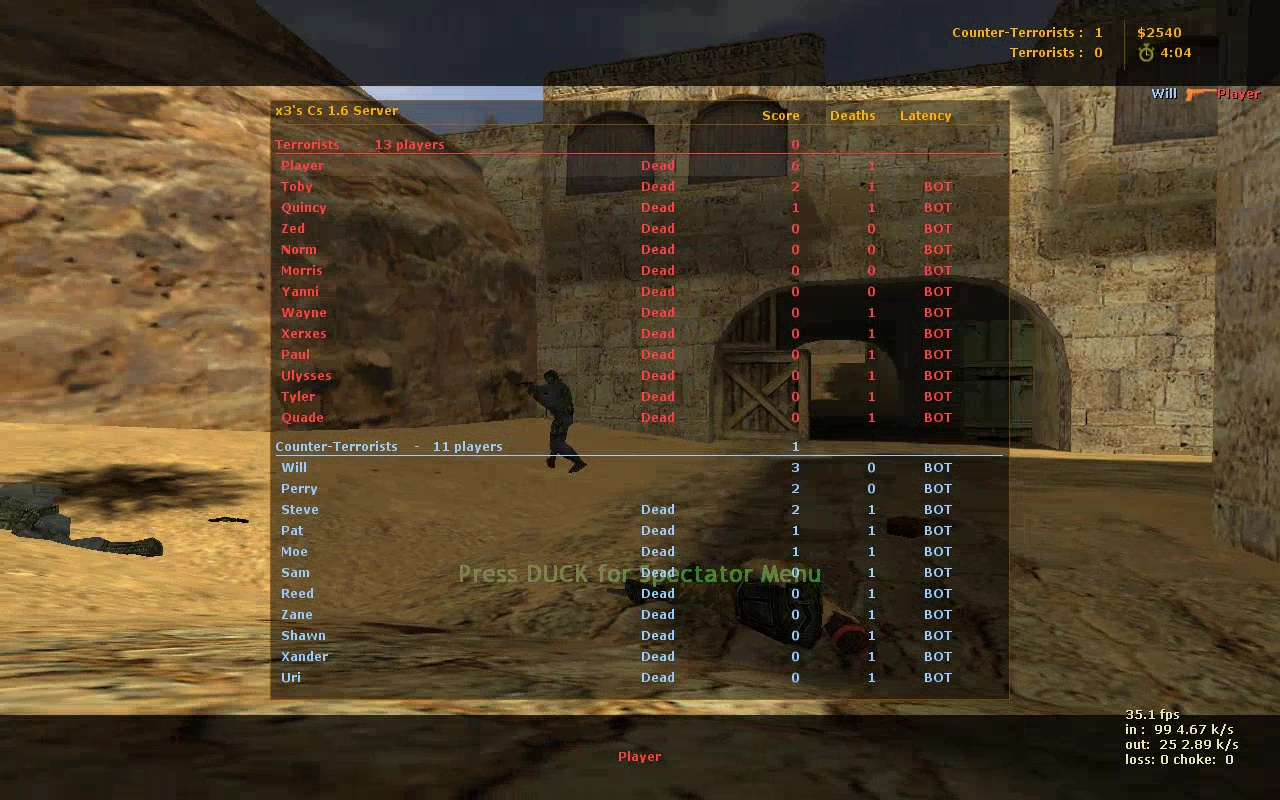ct: (530, 374, 590, 472)
dead: (620, 554, 873, 662)
